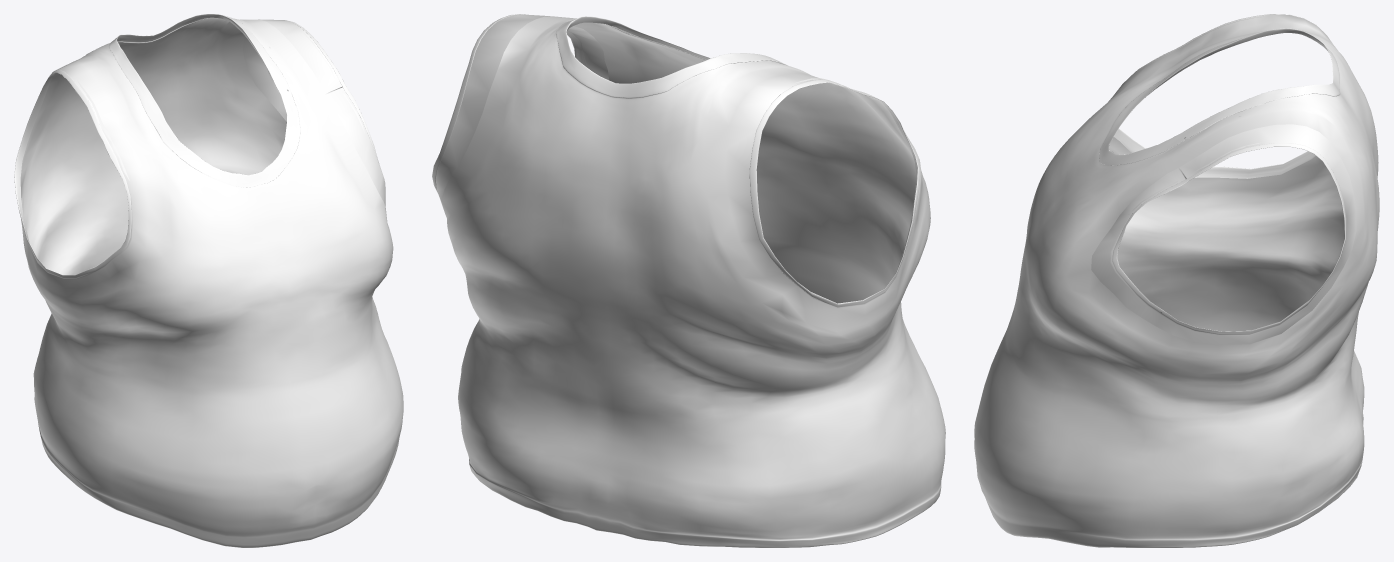
The model's file is Jersey.glb.
3 renders of one model, left to right at view 1: azimuth 30°, elevation 25°; view 2: azimuth 150°, elevation 25°; view 3: azimuth 270°, elevation 25°, orthographic. The views are drawn at different scales.
Parts seen in each view (by area): view 1: Tankini for Genesis; view 2: Tankini for Genesis; view 3: Tankini for Genesis.
Boxes of the visible parts, x1,y1,x2,y2 form: Tankini for Genesis: (14, 14, 403, 547); Tankini for Genesis: (432, 14, 945, 547); Tankini for Genesis: (974, 14, 1379, 547).
Bounding box in the file's own units: 9.53 × 11.54 × 9.43.
Materials: 1 (1 with a texture image).
